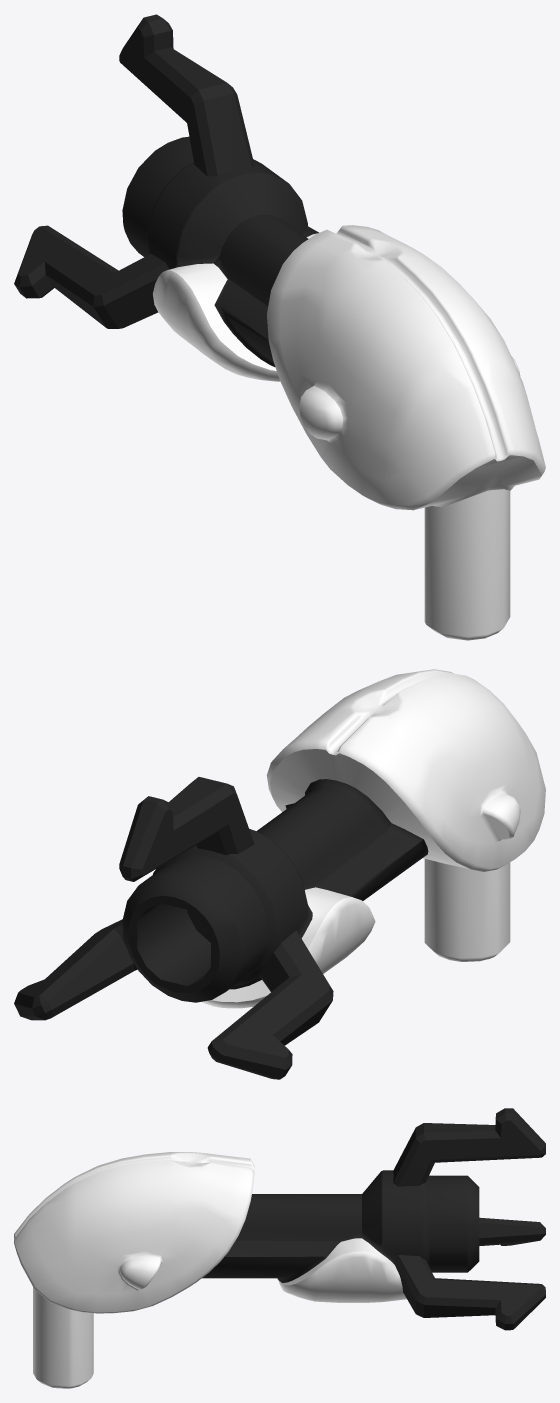
The model's file is PortalGun.obj.
3 renders of one model, top to bottom at view 1: azimuth 30°, elevation 25°; view 2: azimuth 150°, elevation 25°; view 3: azimuth 270°, elevation 25°, orthographic. The views are drawn at different scales.
Parts seen in each view (by area): view 1: CHELLPORTALGUN_NXG0000; view 2: CHELLPORTALGUN_NXG0000; view 3: CHELLPORTALGUN_NXG0000.
Boxes of the visible parts, x1=… form: CHELLPORTALGUN_NXG0000: x1=14, y1=14, x2=545, y2=640; CHELLPORTALGUN_NXG0000: x1=14, y1=669, x2=545, y2=1079; CHELLPORTALGUN_NXG0000: x1=14, y1=1108, x2=545, y2=1388.
Size of the model in its own units: 0.1123 by 0.1484 by 0.2674.
Materials: 2 (2 with a texture image).
